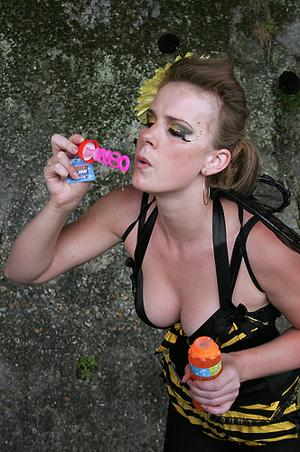person: (7, 63, 299, 445)
